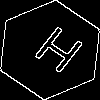H: (25, 25, 86, 83)
